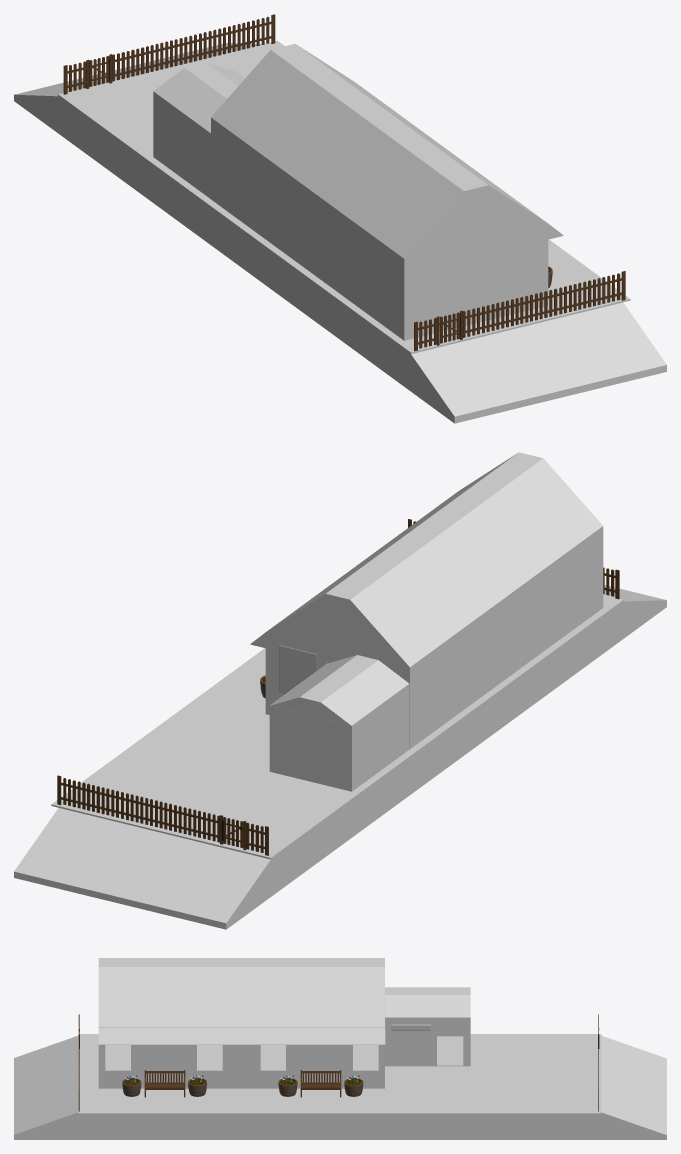
Rendered from StationTest.fbx.
3 renders of one model, top to bottom at view 1: azimuth 30°, elevation 25°; view 2: azimuth 150°, elevation 25°; view 3: azimuth 270°, elevation 25°, orthographic. The views are drawn at different scales.
Visible parts, largest first — view 1: Cube.003, Cube, Plane.178, Cube.004, Cube.006; view 2: Cube.003, Cube, Plane.178, Cube.004, Cube.006, Cube.008; view 3: Cube.003, Cube, Plane.178, Cube.005, Cube.004, Cube.006, Plane.009, Plane.290.
Part boxes in pixels (<box>): Cube.003: <box>211,44,548,340</box>; Cube: <box>14,43,666,423</box>; Plane.178: <box>58,40,630,353</box>; Cube.004: <box>153,71,244,198</box>; Cube.006: <box>154,62,244,132</box>; Cube.003: <box>265,452,603,748</box>; Cube: <box>14,585,666,929</box>; Plane.178: <box>51,594,623,859</box>; Cube.004: <box>269,663,409,791</box>; Cube.006: <box>270,655,408,725</box>; Cube.008: <box>279,645,317,693</box>; Cube.003: <box>98,958,384,1088</box>; Cube: <box>14,1035,666,1139</box>; Plane.178: <box>78,1034,601,1114</box>; Cube.005: <box>98,1028,385,1044</box>; Cube.004: <box>385,988,470,1066</box>; Cube.006: <box>385,987,470,1017</box>; Plane.009: <box>144,1070,185,1097</box>; Plane.290: <box>300,1070,341,1097</box>.
Bounding box in the file's own units: 2883 × 2188 × 10020.
